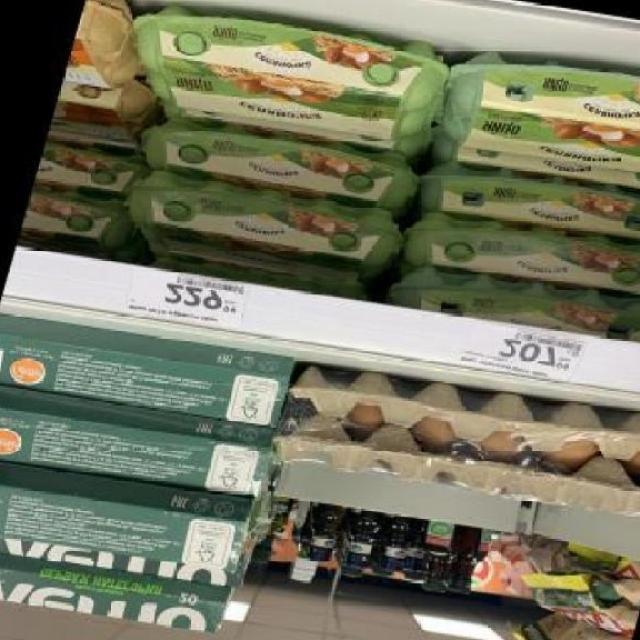Egg: (116, 0, 456, 150), (109, 167, 414, 288), (426, 39, 640, 192), (128, 110, 433, 216), (394, 203, 640, 305), (410, 152, 640, 257), (383, 258, 640, 344), (18, 184, 146, 261), (48, 70, 164, 146), (62, 0, 156, 93), (271, 499, 352, 600), (33, 137, 146, 198), (408, 516, 466, 595), (366, 507, 424, 583), (332, 504, 386, 584), (442, 526, 497, 602)
